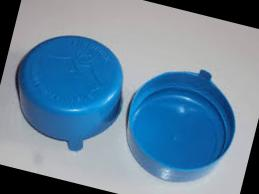Plastik: (14, 35, 123, 153), (124, 70, 235, 184)
